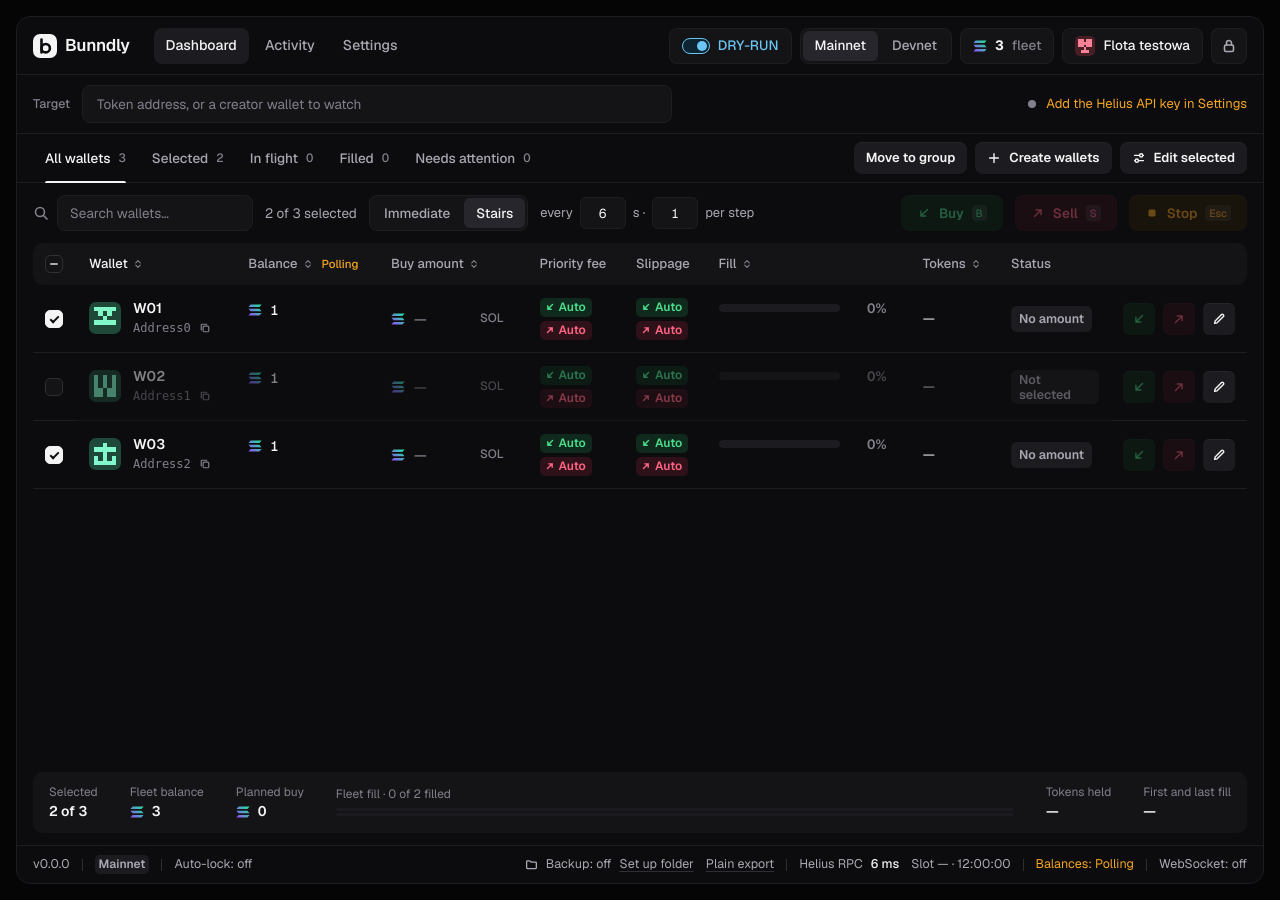
Test: selection › the header checkbox goes none → all → none and shows the mixed state
Expected: the checkbox named "Select W02" is not checked, [45,378,63,396]
Expected: the text "2 of 3 selected" is shown, [265,204,357,222]
mixed → all
Click the checkbox named "Select all wallets": (54, 264) [45,255,63,273]
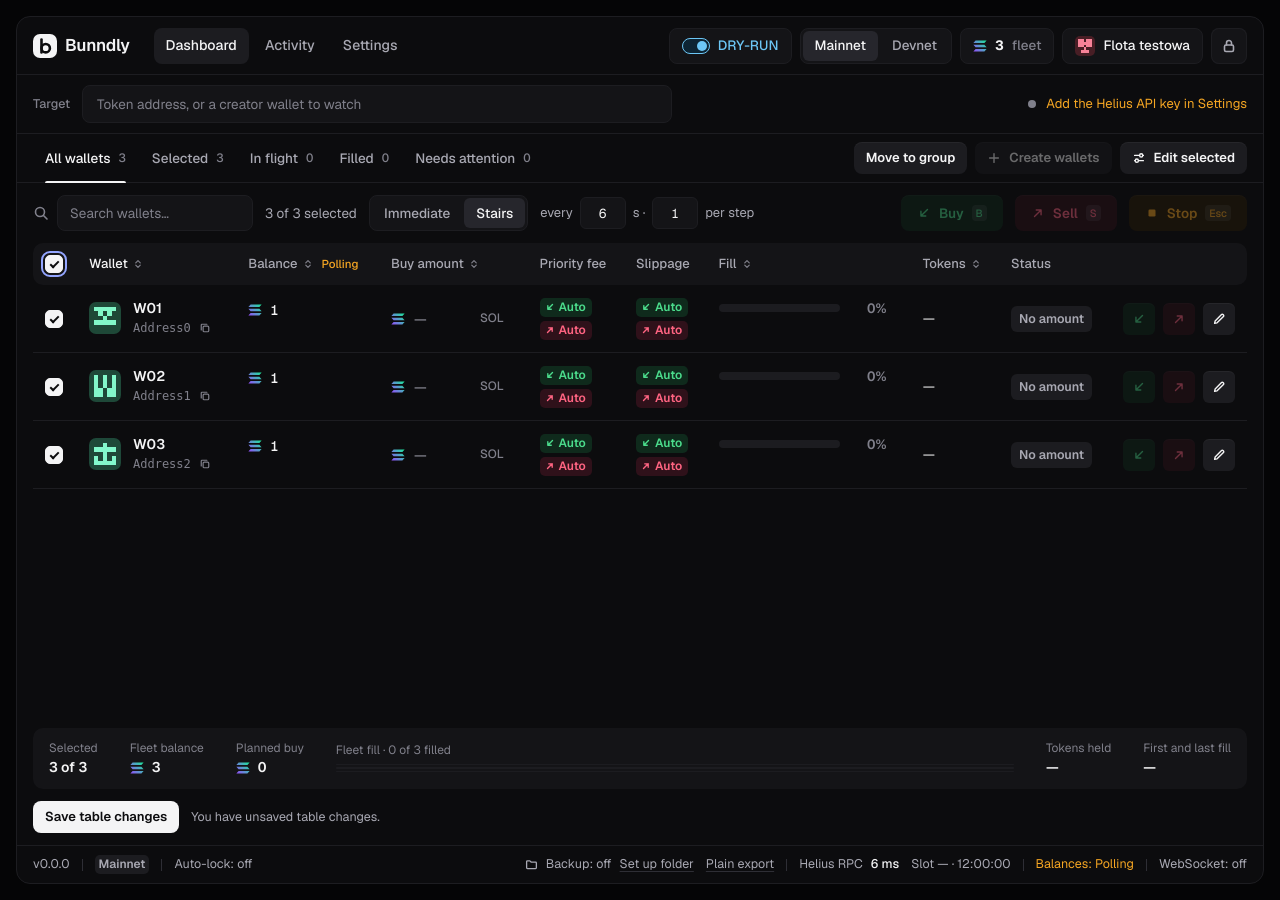
Expected: the checkbox named "Select all wallets" is checked
Expected: the text "3 of 3 selected" is shown, [265,204,357,222]
all → none
Click the checkbox named "Select all wallets": (54, 264) [45,255,63,273]
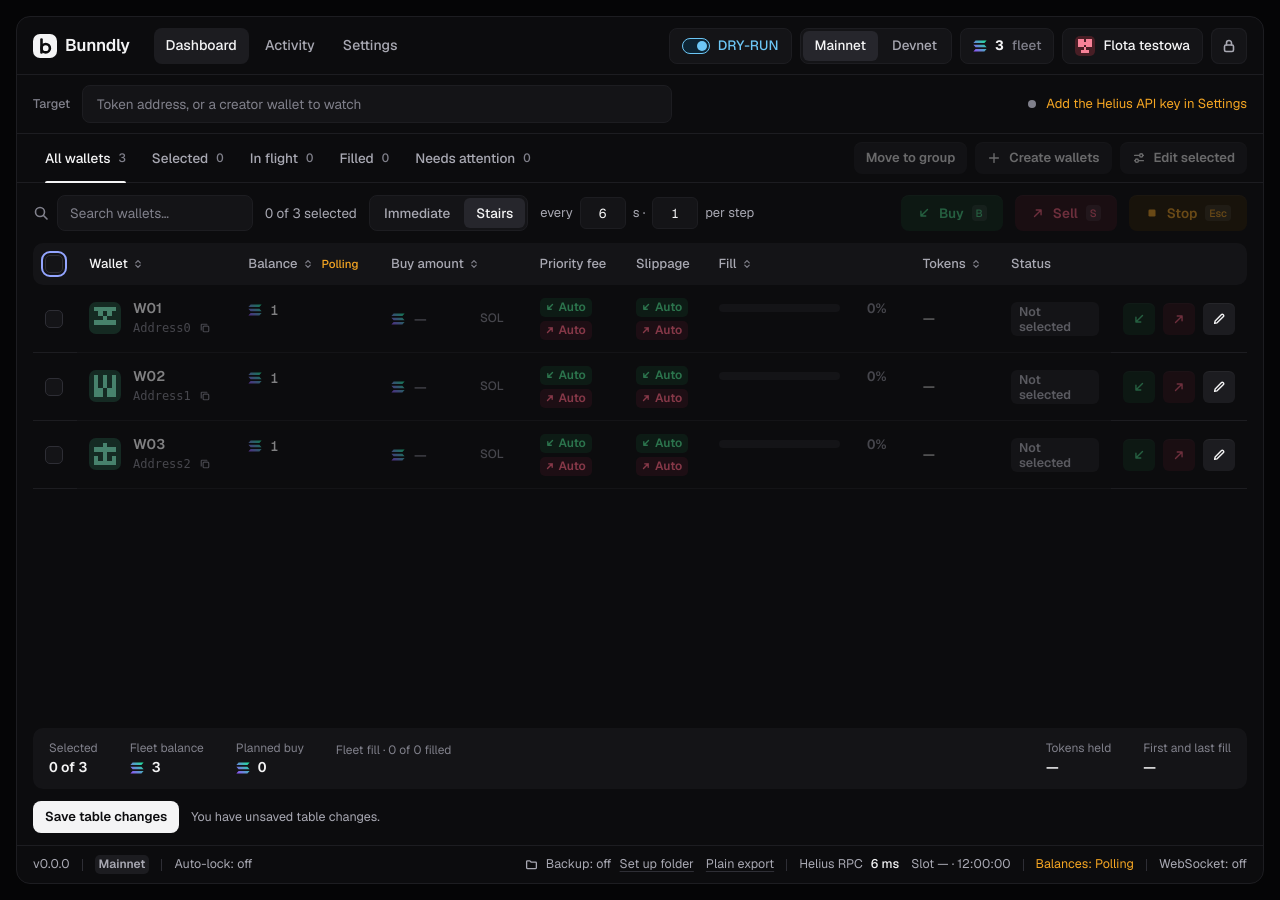
Expected: the checkbox named "Select all wallets" is not checked
Expected: the text "0 of 3 selected" is shown, [265,204,357,222]
none → all
Click the checkbox named "Select all wallets": (54, 264) [45,255,63,273]
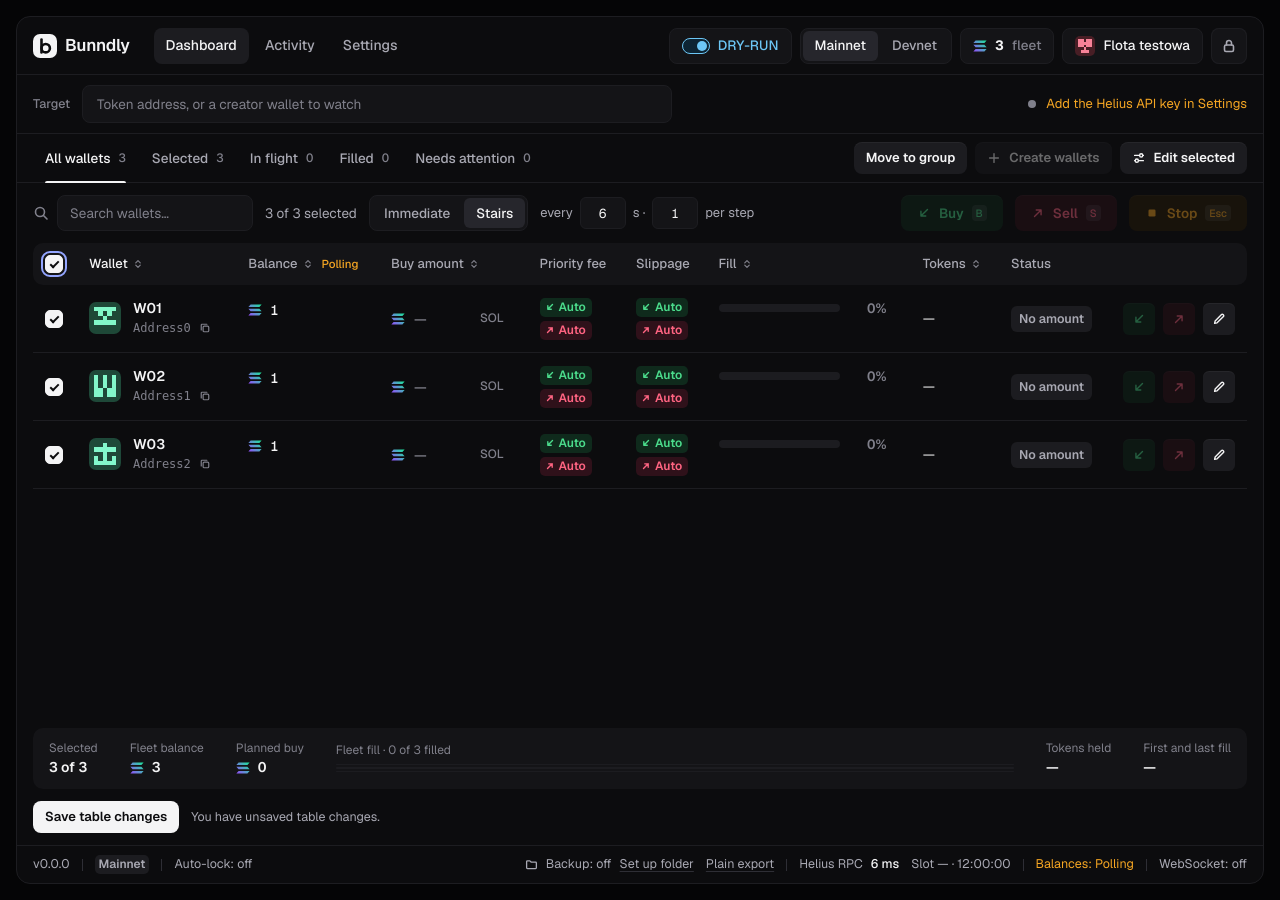
Expected: the text "3 of 3 selected" is shown, [265,204,357,222]
one row off: mixed again
Click the checkbox named "Select W03": (54, 455) [45,446,63,464]
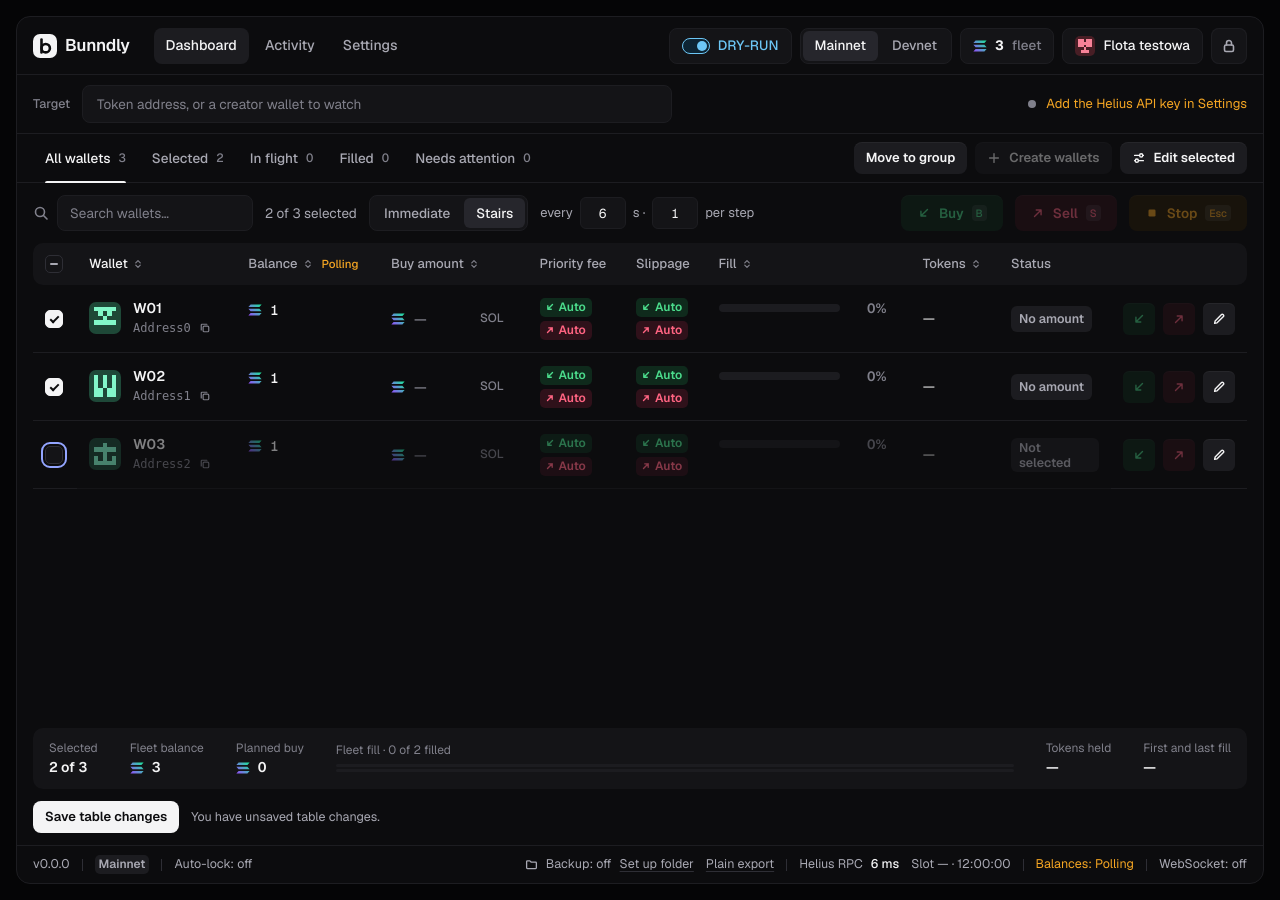
Expected: the text "2 of 3 selected" is shown, [265,204,357,222]
